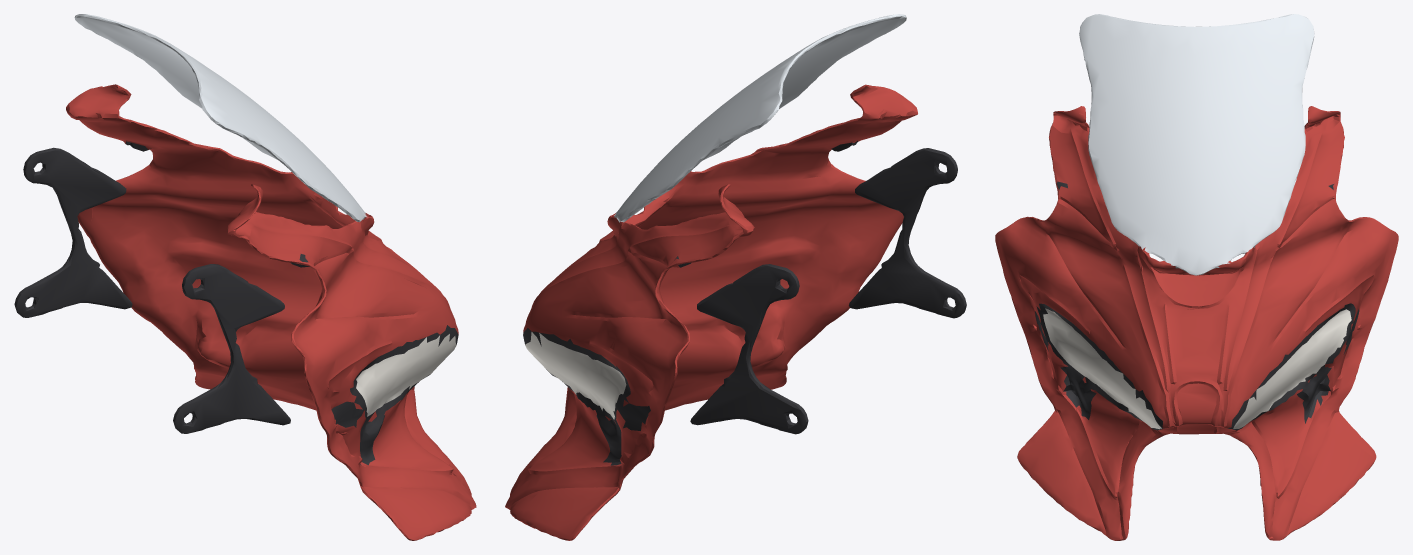
Rendered from naked_1_lod1.glb.
3 renders of one model, left to right at view 1: azimuth 30°, elevation 25°; view 2: azimuth 150°, elevation 25°; view 3: azimuth 270°, elevation 25°, orthographic. The views are drawn at different scales.
Visible parts, largest first — view 1: naked_1_lod1; view 2: naked_1_lod1; view 3: naked_1_lod1.
Boxes of the visible parts, box(x1,y1,x2,y2) form: naked_1_lod1: box(14, 14, 476, 540); naked_1_lod1: box(505, 14, 966, 540); naked_1_lod1: box(995, 14, 1398, 540).
Size of the model in its own units: 0.3497 by 0.4675 by 0.4164.
